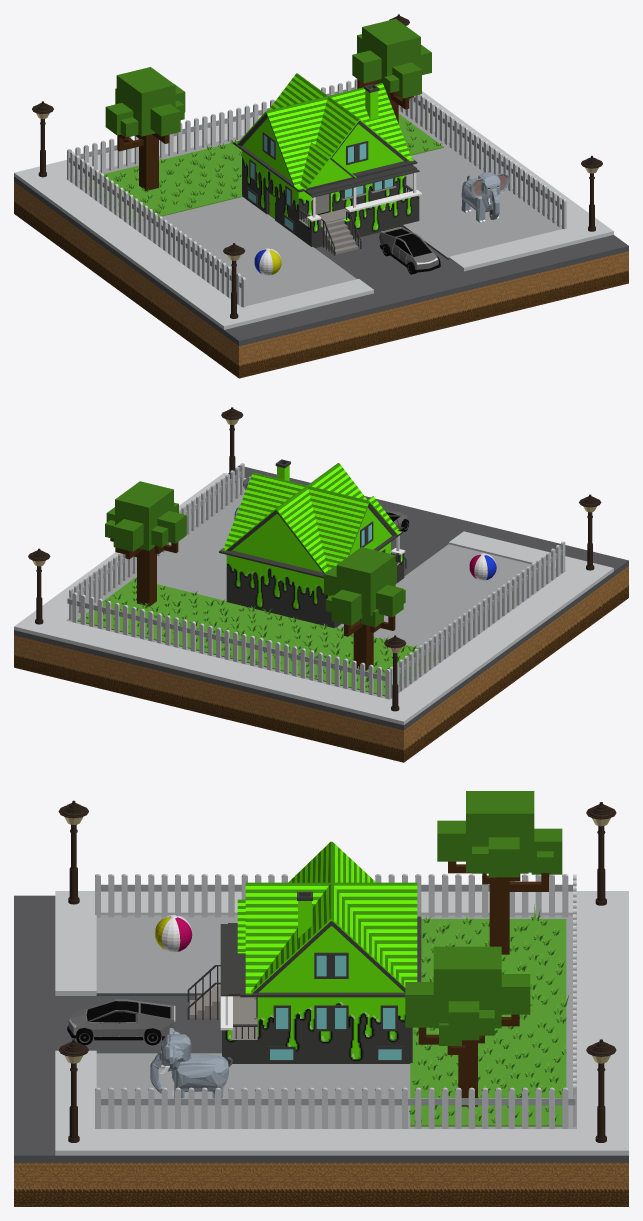
The picture shows the model from 3 angles, top to bottom: view 1: azimuth 30°, elevation 25°; view 2: azimuth 150°, elevation 25°; view 3: azimuth 270°, elevation 25°; orthographic projection. The views are drawn at different scales.
Visible parts, largest first — view 1: Cube.004, Cube.754, VEHICLES_CYBERTRUCK, ANIMAL_ELEFANTE, OBJRANDOM_BEACHBALL; view 2: Cube.004, Cube.754, OBJRANDOM_BEACHBALL; view 3: Cube.004, Cube.754, VEHICLES_CYBERTRUCK, ANIMAL_ELEFANTE, OBJRANDOM_BEACHBALL.
Part boxes in pixels (x1,y1,x2,y2): Cube.004: [14, 14, 628, 378]; Cube.754: [233, 73, 421, 255]; VEHICLES_CYBERTRUCK: [379, 227, 440, 274]; ANIMAL_ELEFANTE: [461, 172, 509, 222]; OBJRANDOM_BEACHBALL: [254, 248, 281, 275]; Cube.004: [14, 407, 628, 762]; Cube.754: [219, 459, 406, 628]; OBJRANDOM_BEACHBALL: [469, 553, 496, 580]; Cube.004: [14, 791, 628, 1206]; Cube.754: [187, 841, 421, 1063]; VEHICLES_CYBERTRUCK: [67, 999, 175, 1045]; ANIMAL_ELEFANTE: [150, 1028, 232, 1098]; OBJRANDOM_BEACHBALL: [155, 915, 192, 952].
Bounding box in the file's own units: 4000 × 1600 × 4000.
Materials: 36 (4 with a texture image).
